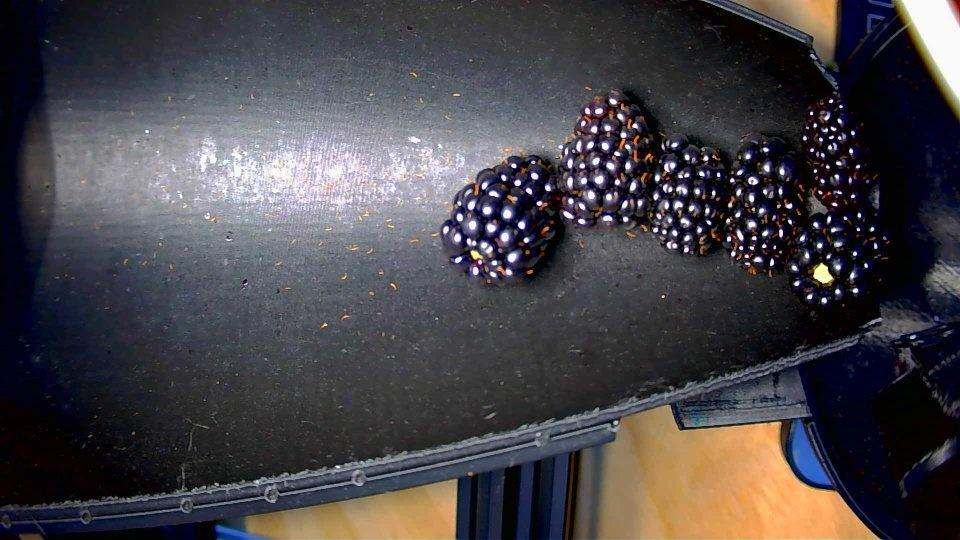berry: (439, 156, 558, 282), (559, 90, 655, 226), (722, 135, 802, 273), (785, 210, 887, 308), (650, 135, 726, 254), (800, 93, 876, 208)
